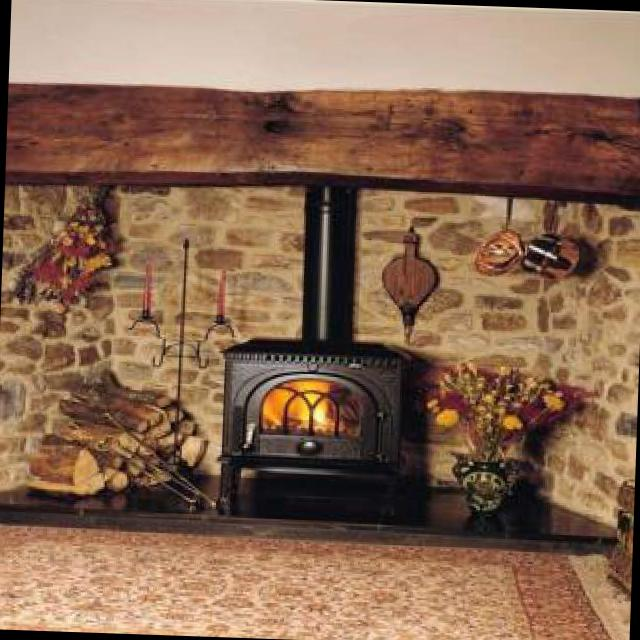Fire: (252, 374, 340, 434)
